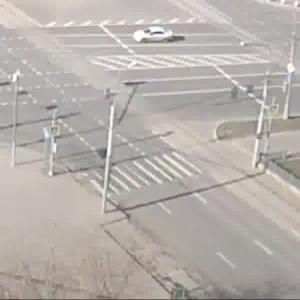car: (140, 29, 178, 51)
